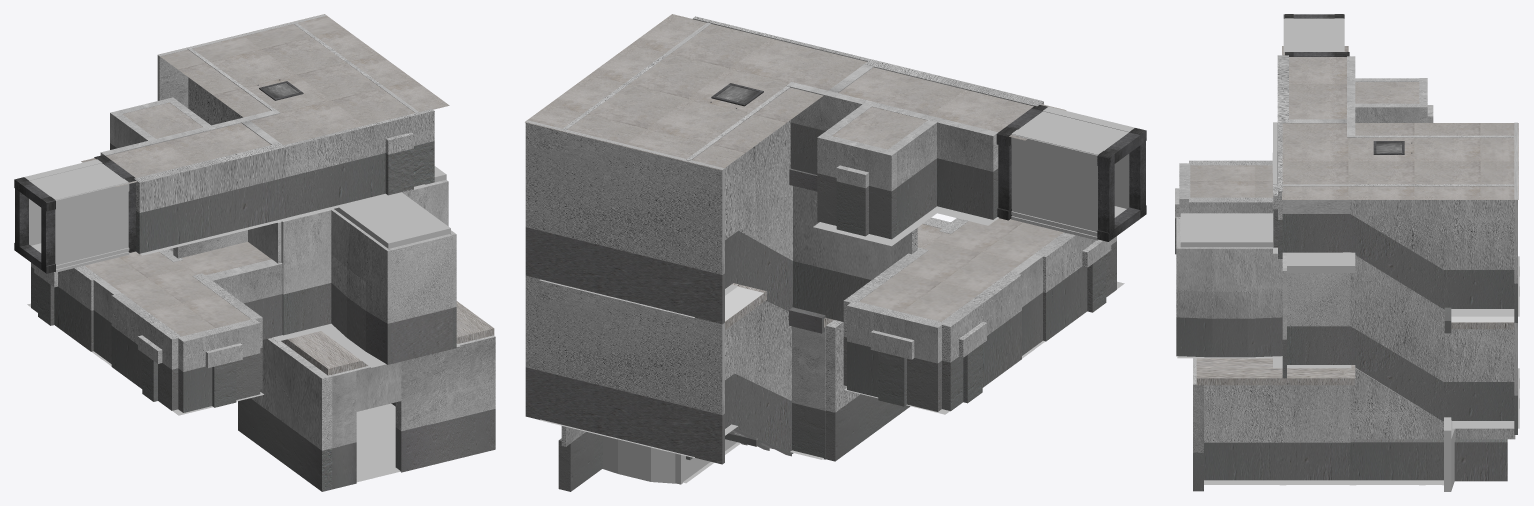
Rendered from TheStairWay (2).fbx.
The picture shows the model from 3 angles, left to right: view 1: azimuth 30°, elevation 25°; view 2: azimuth 150°, elevation 25°; view 3: azimuth 270°, elevation 25°; orthographic projection. The views are drawn at different scales.
Visible parts, largest first — view 1: Cube.096, Cube.001, Cube.085, Cube.094, Cube.087, Cube.088, Cube.036, Cube.049, Cube.038, Cube.092, Cube.083, Cube.185 (+54 smaller); view 2: Cube.189, Cube.029, Cube.020, Cube.010, Cube.191, Cube.048, Cube.078, Cube.032, Cube.073, Cube.074, Plane.013, Plane.012 (+52 smaller); view 3: Cube.202, Cube.019, Cube.097, Cube.034, Cube.201, Cube.003, Cube.100, Cube.093, Cube.079, Cube.033, Cube.084, Cube.187 (+42 smaller).
Boxes of the visible parts, x1=… form: Cube.096: x1=395, y1=335, x2=495, y2=431; Cube.001: x1=136, y1=177, x2=285, y2=254; Cube.085: x1=286, y1=141, x2=434, y2=217; Cube.094: x1=251, y1=337, x2=332, y2=450; Cube.087: x1=134, y1=143, x2=285, y2=212; Cube.088: x1=265, y1=109, x2=434, y2=177; Cube.036: x1=331, y1=209, x2=391, y2=323; Cube.049: x1=51, y1=178, x2=128, y2=269; Cube.038: x1=390, y1=234, x2=452, y2=322; Cube.092: x1=395, y1=409, x2=495, y2=472; Cube.083: x1=238, y1=398, x2=332, y2=491; Cube.185: x1=281, y1=209, x2=333, y2=294; Cube.189: x1=525, y1=120, x2=724, y2=274; Cube.029: x1=525, y1=275, x2=724, y2=415; Cube.020: x1=525, y1=367, x2=724, y2=464; Cube.010: x1=525, y1=227, x2=724, y2=324; Cube.191: x1=686, y1=86, x2=792, y2=260; Cube.048: x1=1011, y1=129, x2=1103, y2=236; Cube.078: x1=793, y1=186, x2=917, y2=279; Cube.032: x1=725, y1=301, x2=791, y2=400; Cube.073: x1=847, y1=341, x2=941, y2=411; Cube.074: x1=847, y1=302, x2=944, y2=363; Plane.013: x1=548, y1=74, x2=687, y2=128; Plane.012: x1=590, y1=44, x2=728, y2=98; Cube.202: x1=1350, y1=252, x2=1514, y2=381; Cube.019: x1=1350, y1=184, x2=1515, y2=269; Cube.097: x1=1204, y1=385, x2=1350, y2=442; Cube.034: x1=1176, y1=247, x2=1282, y2=318; Cube.201: x1=1350, y1=326, x2=1514, y2=420; Cube.003: x1=1350, y1=214, x2=1514, y2=309; Cube.100: x1=1349, y1=439, x2=1507, y2=481; Cube.093: x1=1204, y1=442, x2=1349, y2=480; Cube.079: x1=1350, y1=368, x2=1515, y2=439; Cube.033: x1=1176, y1=317, x2=1282, y2=357; Cube.084: x1=1196, y1=358, x2=1355, y2=385; Cube.187: x1=1287, y1=273, x2=1350, y2=326.
Size of the model in its own units: 3372 by 2545 by 2649.
